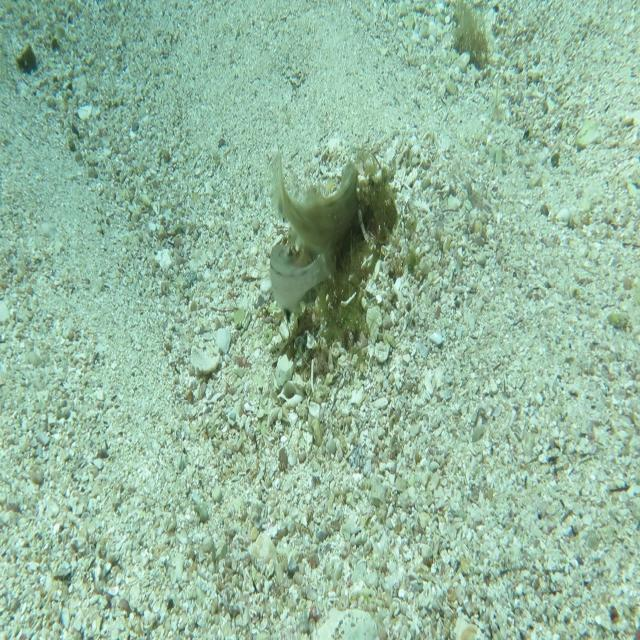SPA: (267, 147, 360, 254)
core_nest: (321, 198, 377, 239)
female: (269, 241, 340, 324)
nest: (268, 148, 404, 365)
